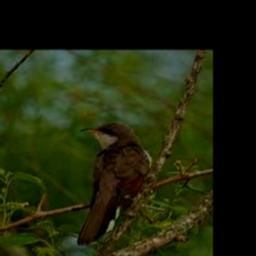Cuckoo: (76, 122, 153, 245)
